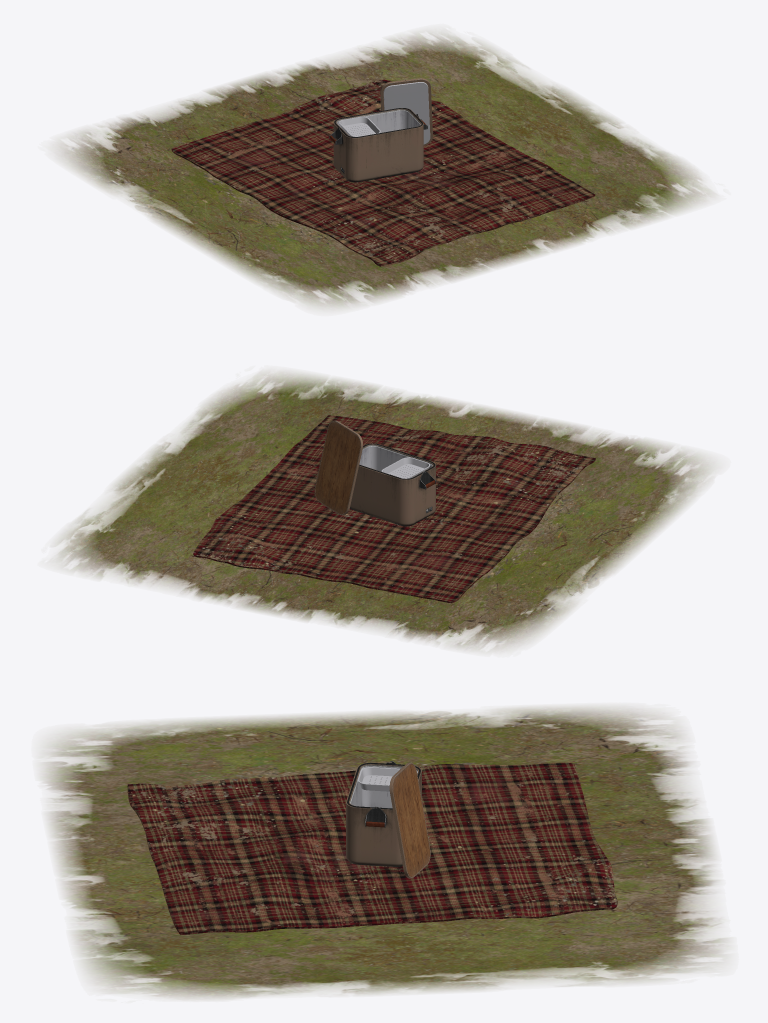
File: fridge-4k.glb
3 renders of one model, top to bottom at view 1: azimuth 30°, elevation 25°; view 2: azimuth 150°, elevation 25°; view 3: azimuth 270°, elevation 25°, orthographic. The views are drawn at different scales.
Visible parts, largest first — view 1: ground.001_low, ground_low, crate.001_low, crate.002_low, crate.003_low; view 2: ground.001_low, ground_low, crate.001_low, crate.002_low, crate.003_low; view 3: ground.001_low, ground_low, crate.001_low, crate.002_low, crate.003_low.
Boxes of the visible parts, x1=… form: ground.001_low: x1=56, y1=32, x2=711, y2=307; ground_low: x1=171, y1=79, x2=595, y2=266; crate.001_low: x1=333, y1=108, x2=423, y2=182; crate.002_low: x1=380, y1=78, x2=432, y2=145; crate.003_low: x1=339, y1=116, x2=380, y2=136; ground.001_low: x1=56, y1=372, x2=712, y2=650; ground_low: x1=193, y1=415, x2=595, y2=603; crate.001_low: x1=349, y1=443, x2=435, y2=526; crate.002_low: x1=314, y1=420, x2=362, y2=515; crate.003_low: x1=381, y1=457, x2=430, y2=478; ground.001_low: x1=42, y1=707, x2=726, y2=998; ground_low: x1=127, y1=762, x2=617, y2=934; crate.001_low: x1=346, y1=762, x2=421, y2=866; crate.002_low: x1=389, y1=762, x2=430, y2=878; crate.003_low: x1=357, y1=767, x2=417, y2=791.
Bounding box in the file's own units: 5 × 0.765 × 5.
2 materials, 2 textured.
